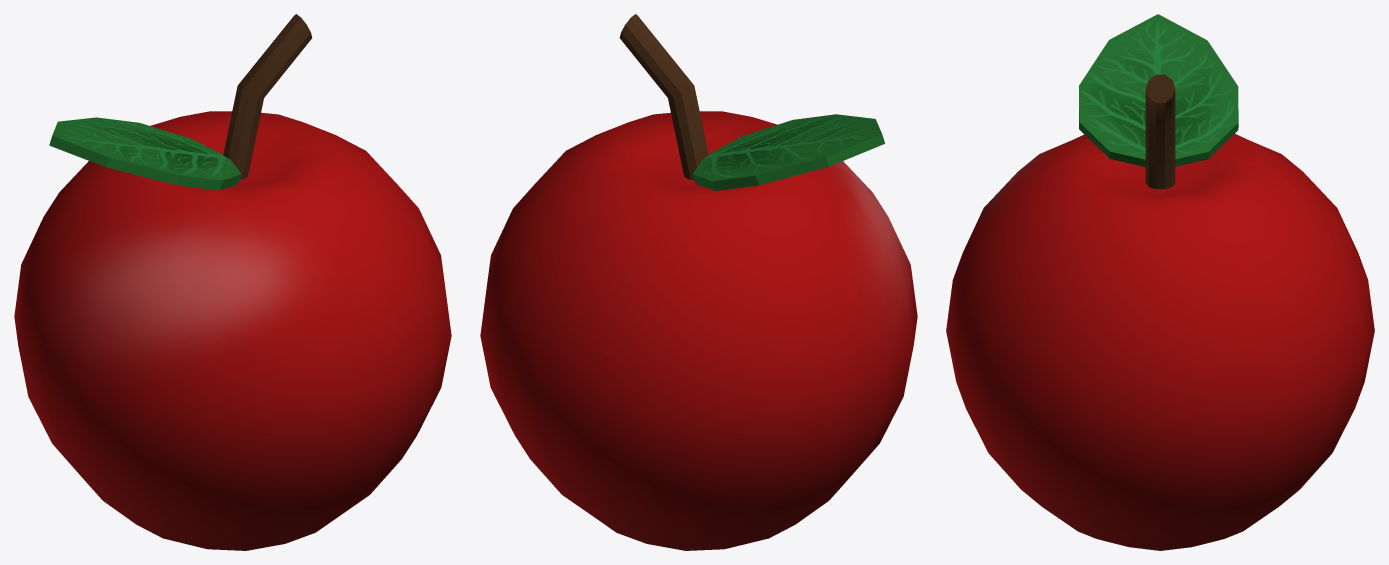
The model's file is Apple.fbx.
The picture shows the model from 3 angles, left to right: view 1: azimuth 30°, elevation 25°; view 2: azimuth 150°, elevation 25°; view 3: azimuth 270°, elevation 25°; orthographic projection. The views are drawn at different scales.
Visible parts, largest first — view 1: Apple; view 2: Apple; view 3: Apple.
Part boxes in pixels (left/top/right/bottom): Apple: left=14, top=14, right=451, bottom=550; Apple: left=480, top=14, right=917, bottom=550; Apple: left=946, top=14, right=1374, bottom=550.
Bounding box in the file's own units: 0.7695 × 0.9761 × 0.7685.
